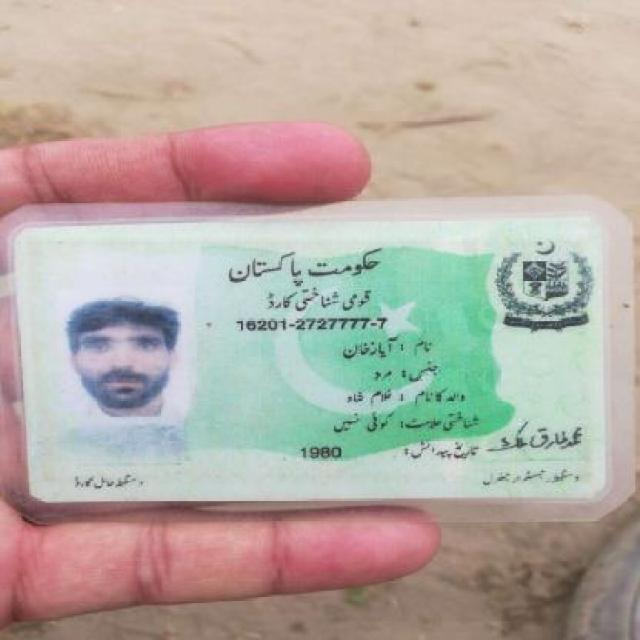Front: (12, 217, 616, 509)
